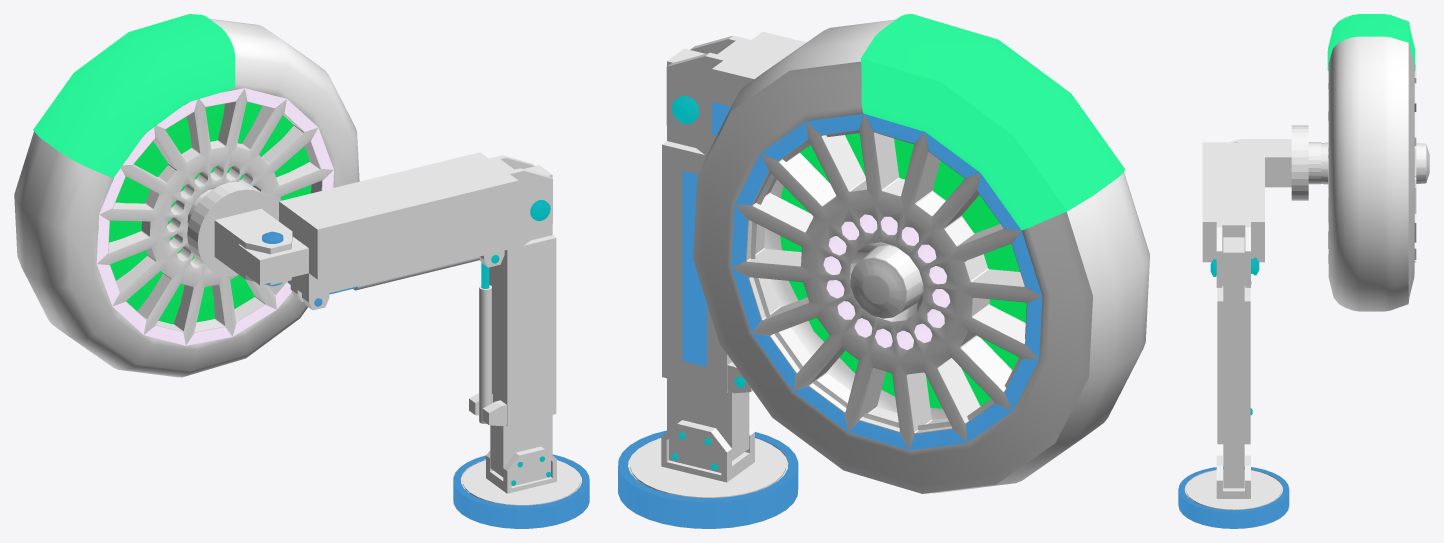
3 views of the same model, side by side, from view 1: azimuth 30°, elevation 25°; view 2: azimuth 150°, elevation 25°; view 3: azimuth 270°, elevation 25° (orthographic). The views are drawn at different scales.
Visible parts, largest first — view 1: ban_2.030, ban_2.032, Plane.049, ban_2.034, Cube.008, ban_2.031, Plane.048, Circle.122, Circle.123, Plane.053, Cylinder.030, Plane.050 (+1 smaller); view 2: ban_2.033, ban_2.030, ban_2.034, Cube.008, Plane.048, Plane.049, Circle.122, ban_2.031, Circle.124; view 3: ban_2.030, Plane.049, Cube.008, Plane.048, Circle.122, ban_2.034, Circle.123, Plane.053, ban_2.033, ban_2.032.
Part boxes in pixels (<box>): ban_2.030: <box>14,18,359,377</box>; ban_2.032: <box>96,88,333,345</box>; Plane.049: <box>238,152,552,297</box>; ban_2.034: <box>33,14,235,178</box>; Cube.008: <box>489,165,556,477</box>; ban_2.031: <box>98,90,311,324</box>; Plane.048: <box>460,446,581,505</box>; Circle.122: <box>453,454,589,528</box>; Circle.123: <box>187,182,277,275</box>; Plane.053: <box>214,208,292,285</box>; Cylinder.030: <box>479,285,491,423</box>; Plane.050: <box>469,393,506,426</box>; ban_2.033: <box>731,113,1042,450</box>; ban_2.030: <box>693,19,1149,493</box>; ban_2.034: <box>860,14,1124,230</box>; Cube.008: <box>662,48,749,460</box>; Plane.048: <box>628,420,788,498</box>; Plane.049: <box>666,31,806,155</box>; Circle.122: <box>618,430,798,528</box>; ban_2.031: <box>780,133,1026,408</box>; Circle.124: <box>671,96,745,470</box>; ban_2.030: <box>1328,36,1414,311</box>; Plane.049: <box>1202,142,1264,287</box>; Cube.008: <box>1217,237,1250,488</box>; Plane.048: <box>1184,455,1283,509</box>; Circle.122: <box>1178,466,1289,528</box>; ban_2.034: <box>1327,14,1415,71</box>; Circle.123: <box>1291,125,1320,200</box>; Plane.053: <box>1229,139,1291,187</box>; ban_2.033: <box>1414,64,1429,262</box>; ban_2.032: <box>1321,71,1328,263</box>.
Size of the model in its own units: 22.62 by 21.78 by 13.01.
